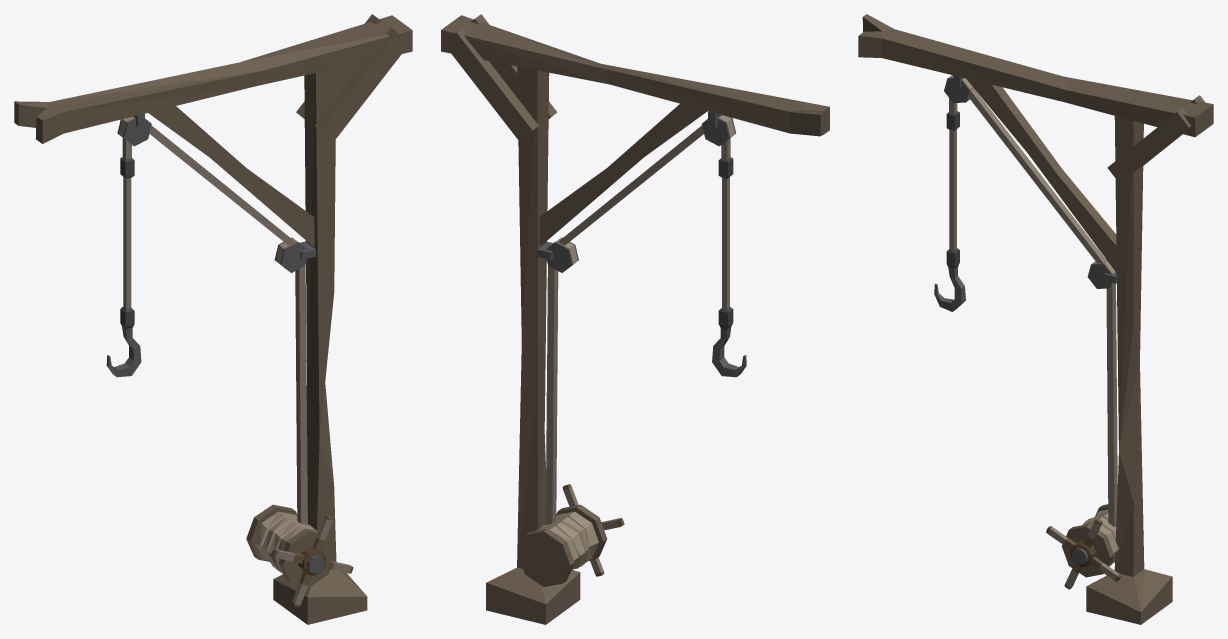
Rendered from SM_Prop_Crane_03.glb.
3 views of the same model, side by side, from view 1: azimuth 30°, elevation 25°; view 2: azimuth 150°, elevation 25°; view 3: azimuth 330°, elevation 25° (orthographic). The views are drawn at different scales.
Visible parts, largest first — view 1: SM_Prop_Crane_03_part00; view 2: SM_Prop_Crane_03_part00; view 3: SM_Prop_Crane_03_part00.
Part boxes in pixels (x1=…): SM_Prop_Crane_03_part00: x1=14, y1=14, x2=412, y2=624; SM_Prop_Crane_03_part00: x1=441, y1=14, x2=829, y2=624; SM_Prop_Crane_03_part00: x1=858, y1=14, x2=1213, y2=624.
Bounding box in the file's own units: 3.51 × 5.04 × 0.713.
Materials: 1 (1 with a texture image).
